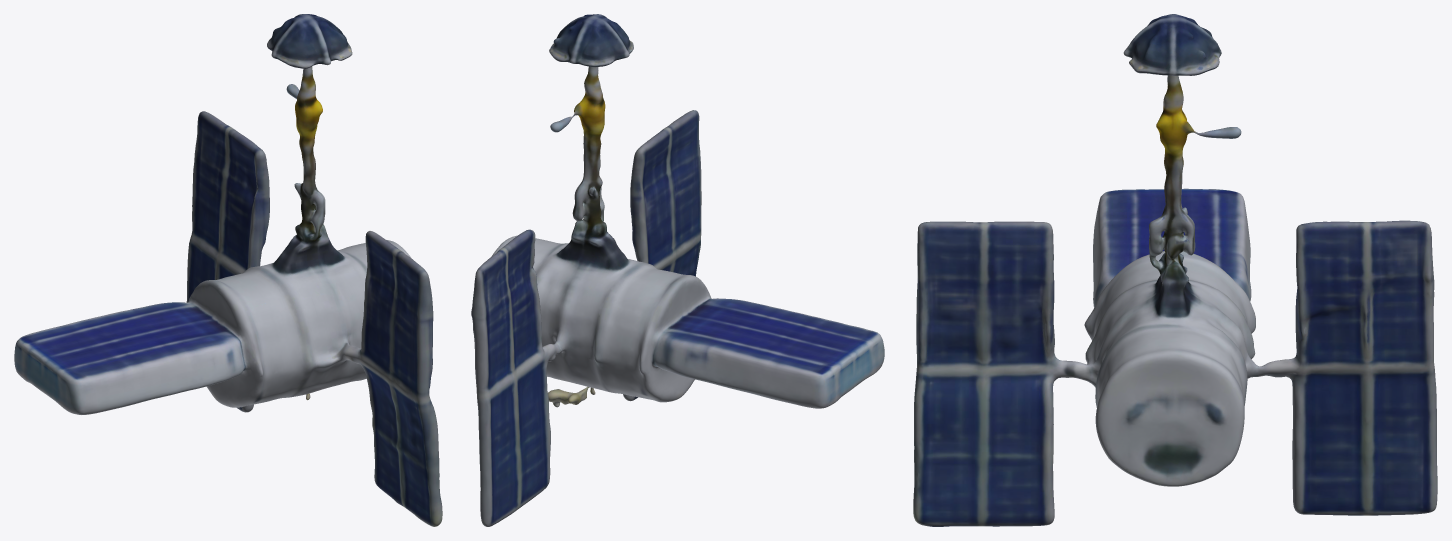
The model's file is e7e64965f226_satellite_with_sola.fbx.
3 renders of one model, left to right at view 1: azimuth 30°, elevation 25°; view 2: azimuth 150°, elevation 25°; view 3: azimuth 270°, elevation 25°, orthographic. The views are drawn at different scales.
Parts seen in each view (by area): view 1: high_poly; view 2: high_poly; view 3: high_poly.
Part boxes in pixels (left/top/right/bottom): high_poly: left=14, top=14, right=442, bottom=526; high_poly: left=471, top=14, right=884, bottom=526; high_poly: left=913, top=14, right=1437, bottom=526.
Bounding box in the file's own units: 86.72 × 100 × 95.13.
